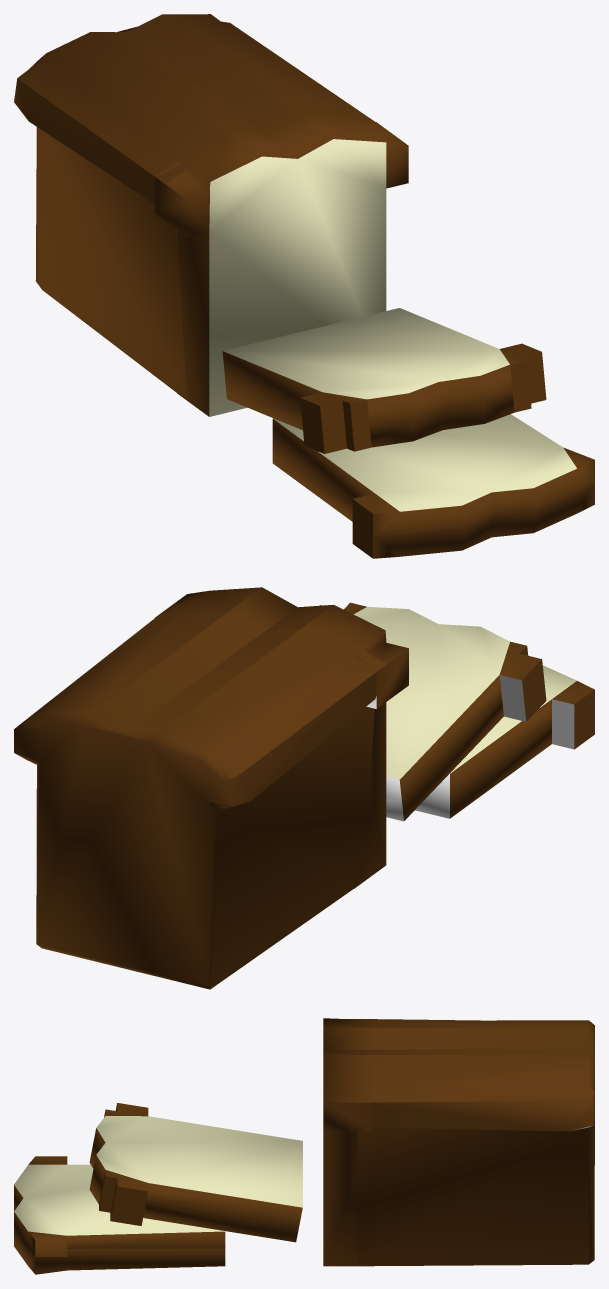
The model's file is bread.fbx.
3 views of the same model, one above another, from view 1: azimuth 30°, elevation 25°; view 2: azimuth 150°, elevation 25°; view 3: azimuth 270°, elevation 25° (orthographic). The views are drawn at different scales.
Parts seen in each view (by area): view 1: Cube, Cube.003, Cube.001, Cube.004; view 2: Cube, Cube.001, Cube.003, Cube.004; view 3: Cube, Cube.001, Cube.004, Cube.003.
Boxes of the visible parts, x1=… form: Cube: x1=14, y1=14, x2=374, y2=399; Cube.003: x1=154, y1=115, x2=408, y2=416; Cube.001: x1=222, y1=308, x2=546, y2=453; Cube.004: x1=272, y1=414, x2=594, y2=558; Cube: x1=14, y1=611, x2=385, y2=989; Cube.001: x1=320, y1=602, x2=546, y2=821; Cube.003: x1=155, y1=587, x2=408, y2=888; Cube.004: x1=415, y1=665, x2=594, y2=818; Cube: x1=358, y1=1019, x2=594, y2=1266; Cube.001: x1=89, y1=1103, x2=302, y2=1242; Cube.004: x1=14, y1=1156, x2=225, y2=1274; Cube.003: x1=323, y1=1018, x2=376, y2=1266.
Size of the model in its own units: 251 by 267 by 735.
